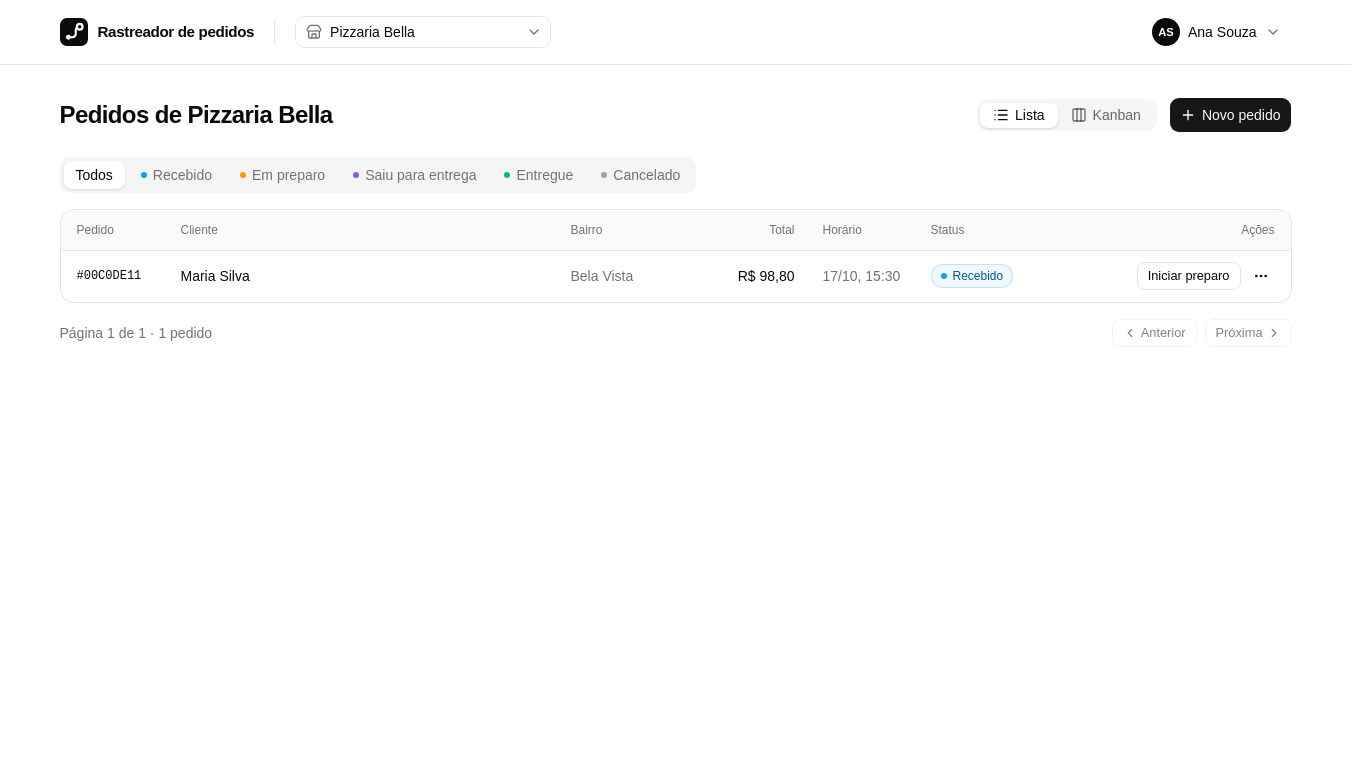
Test: order list › moves an order forward with the action the API allows
Click the button "Iniciar preparo" at (1189, 276), box [1137, 262, 1240, 290]
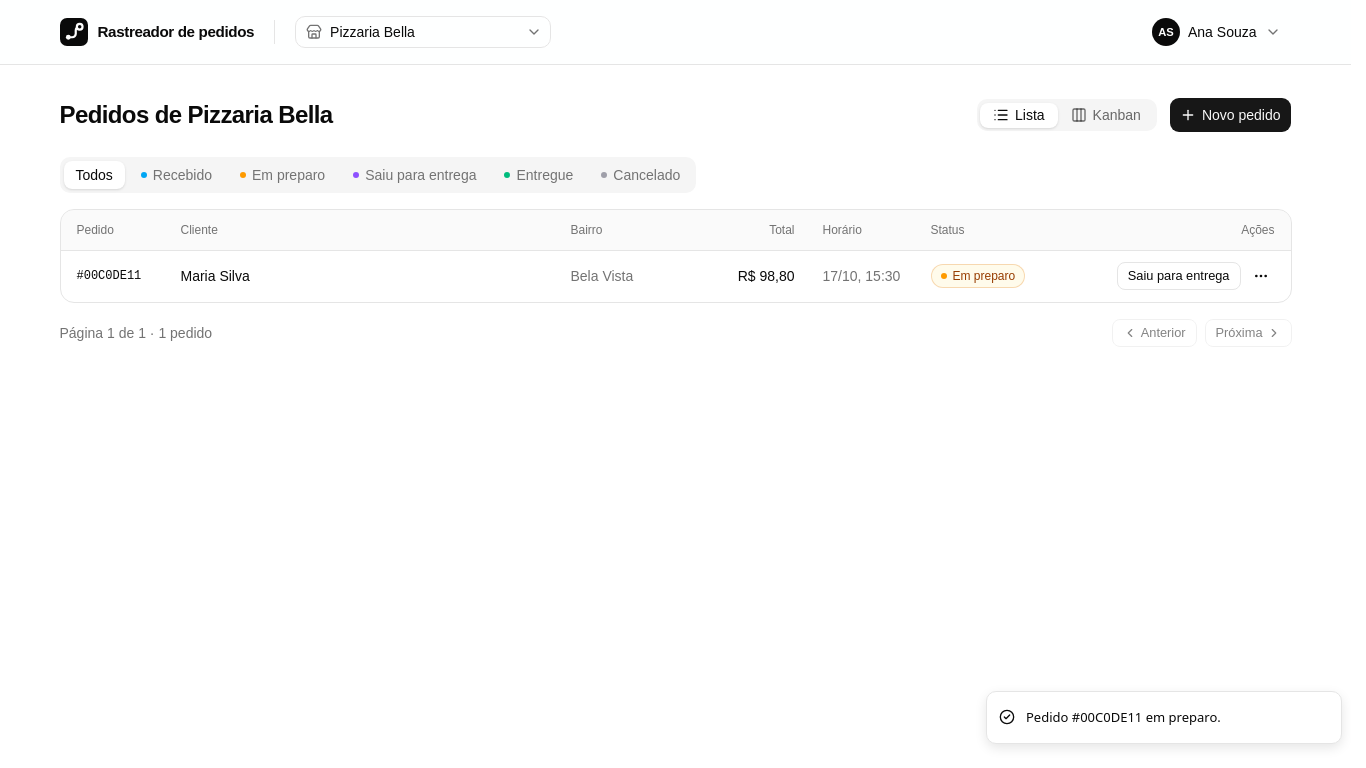
Result: the text "Em preparo" is shown at [930, 264, 1025, 288]
Result: the button "Saiu para entrega" in the row of "Maria Silva" is shown at [1117, 262, 1241, 290]
